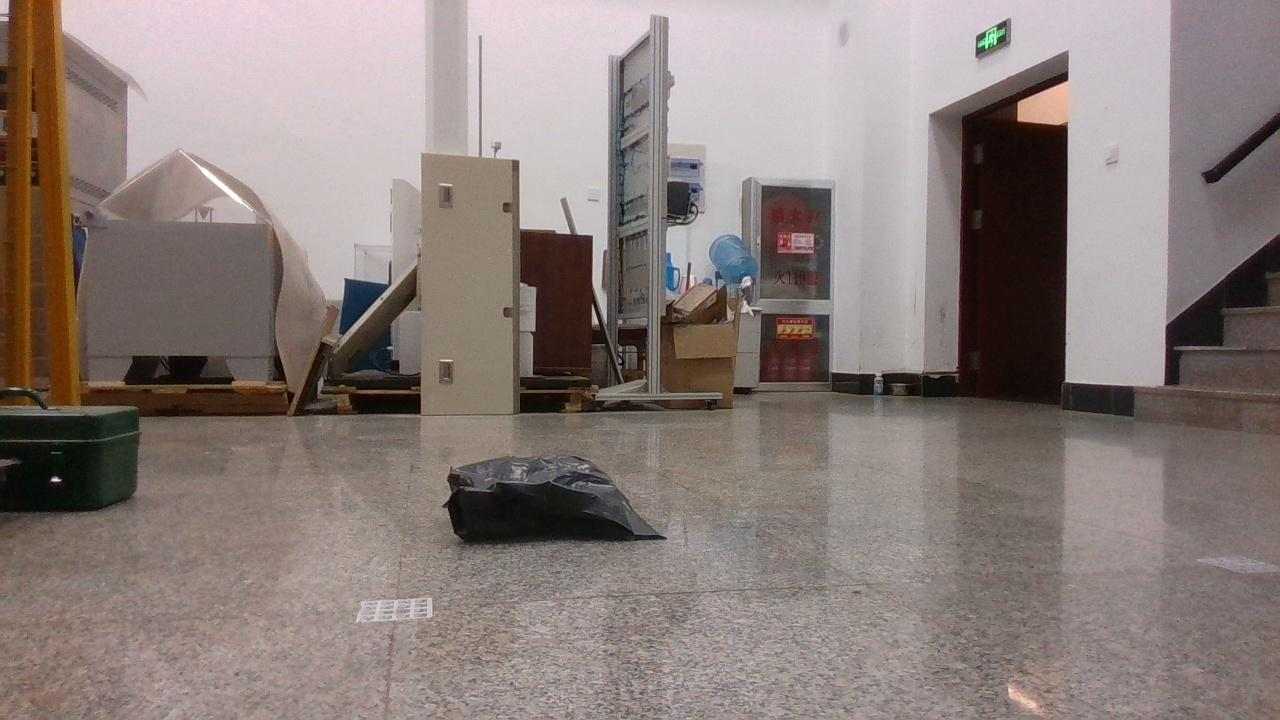package: (442, 455, 669, 540)
